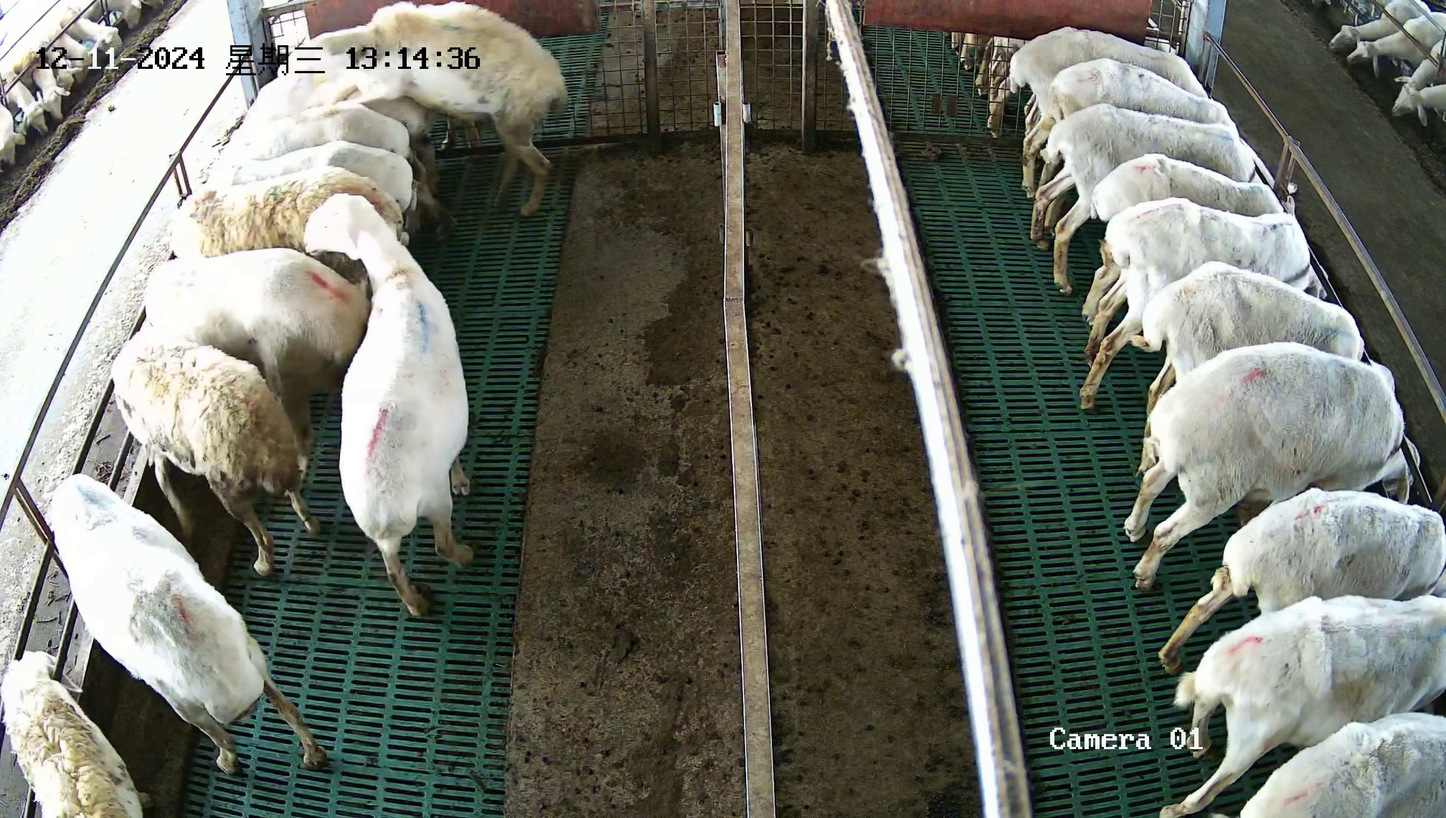Nmounting: (275, 1, 563, 220)
